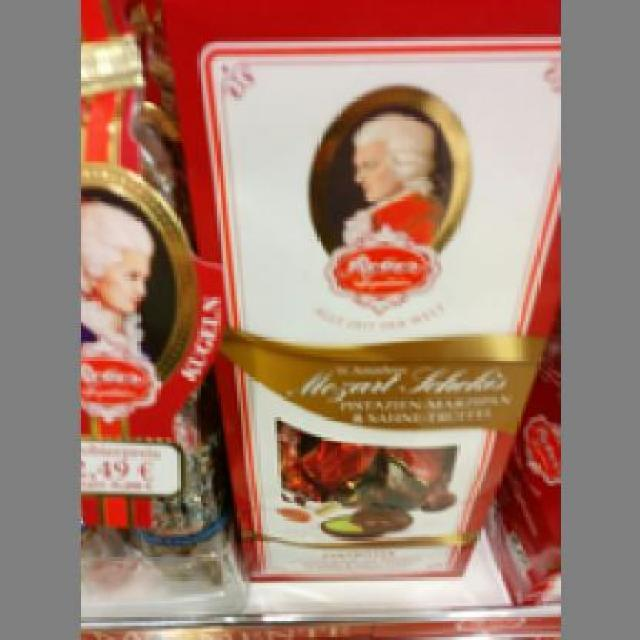Chocolate: (157, 0, 560, 577)
